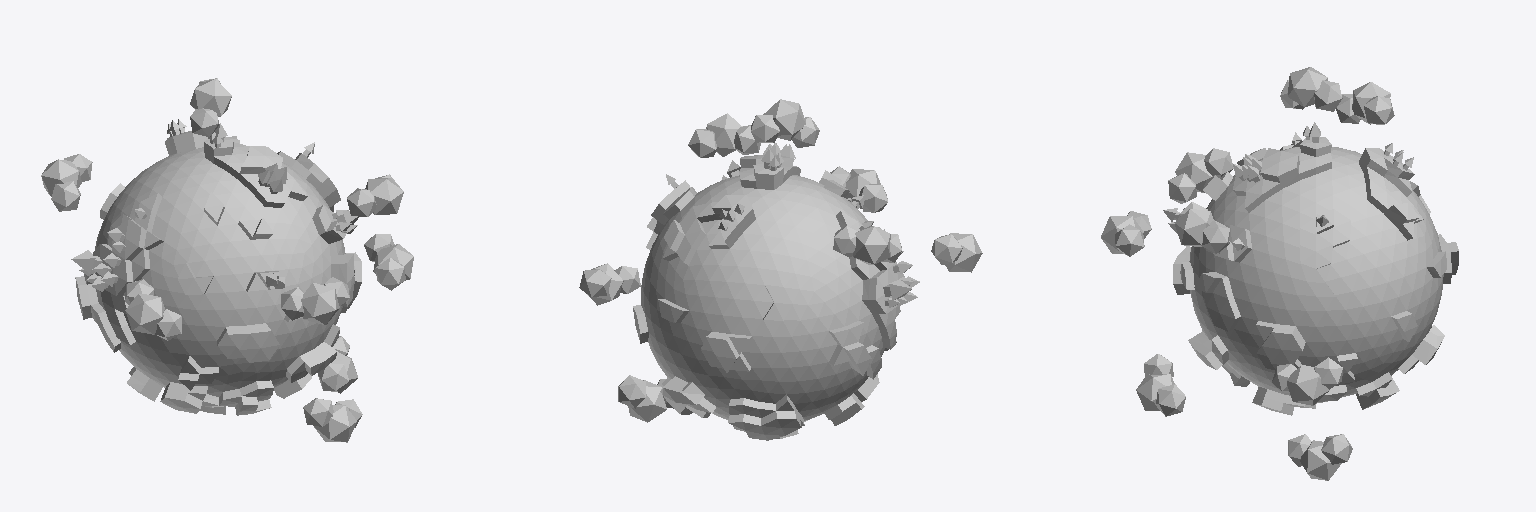
Rendered from world-v2.obj.
The picture shows the model from 3 angles: view 1: azimuth 30°, elevation 25°; view 2: azimuth 150°, elevation 25°; view 3: azimuth 270°, elevation 25°; orthographic projection.
Visible parts, largest first — view 1: Icosphere.025, Icosphere, Icosphere.004, Icosphere.019, Icosphere.001, Icosphere.007, Icosphere.016, Icosphere.022, Icosphere.023, Icosphere.015, Icosphere.012, Icosphere.018 (+5 smaller); view 2: Icosphere.025, Icosphere, Icosphere.022, Icosphere.001, Icosphere.007, Icosphere.010, Icosphere.019, Icosphere.011, Icosphere.014, Icosphere.021, Icosphere.002, Icosphere.008 (+5 smaller); view 3: Icosphere.025, Icosphere, Icosphere.013, Icosphere.001, Icosphere.007, Icosphere.010, Icosphere.016, Icosphere.019, Icosphere.017, Icosphere.011, Icosphere.022, Icosphere.024 (+7 smaller).
Part boxes in pixels (x1,y1,x2,y2): Icosphere.025: (95,147,345,396); Icosphere: (75,131,361,415); Icosphere.004: (301,283,339,324); Icosphere.019: (125,294,164,334); Icosphere.001: (190,79,231,116); Icosphere.007: (365,178,403,214); Icosphere.016: (314,405,356,442); Icosphere.022: (41,159,81,196); Icosphere.023: (51,181,80,211); Icosphere.015: (375,258,405,290); Icosphere.012: (318,364,349,391); Icosphere.018: (303,398,333,426); Icosphere.025: (641,175,884,420); Icosphere: (633,155,904,440); Icosphere.022: (853,226,890,264); Icosphere.001: (763,99,805,140); Icosphere.007: (706,113,742,156); Icosphere.010: (628,380,666,422); Icosphere.019: (945,233,982,272); Icosphere.011: (618,375,645,408); Icosphere.014: (579,269,611,296); Icosphere.021: (931,234,962,264); Icosphere.002: (751,115,779,142); Icosphere.008: (688,129,716,157); Icosphere.025: (1189,147,1443,397); Icosphere: (1173,137,1458,415); Icosphere.013: (1287,365,1329,405); Icosphere.001: (1288,67,1327,107); Icosphere.007: (1174,209,1213,246); Icosphere.010: (1300,440,1341,480); Icosphere.016: (1136,374,1174,410); Icosphere.019: (1175,152,1212,192); Icosphere.017: (1155,384,1185,416); Icosphere.011: (1321,434,1352,464); Icosphere.022: (1352,82,1390,124); Icosphere.024: (1364,96,1394,124).
Bounding box in the file's own units: 20.7 × 20.25 × 18.97.